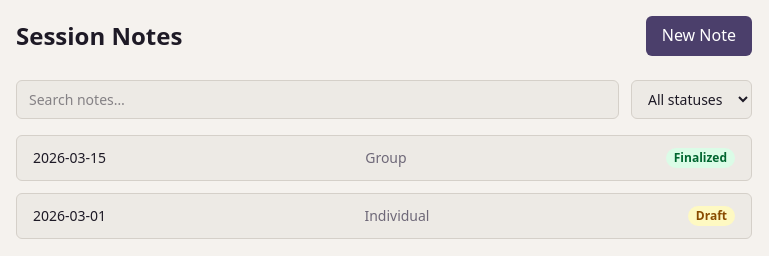
it: Session history page › selecting status filter shows only matching notes
The image size is (769, 256).
expect the text "2026-03-01" is shown: met, box x1=33 y1=206 x2=106 y2=226
Select "Finalized" in the dropdown named "status" at (692, 100), box x1=631 y1=80 x2=752 y2=119
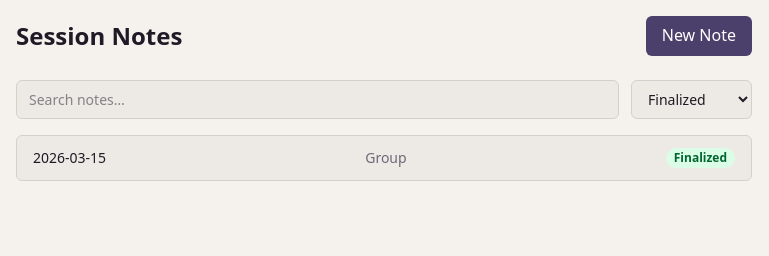
expect the text "2026-03-15" is shown: met, box x1=33 y1=148 x2=106 y2=168
expect the button "2026-03-01" is gone: met
